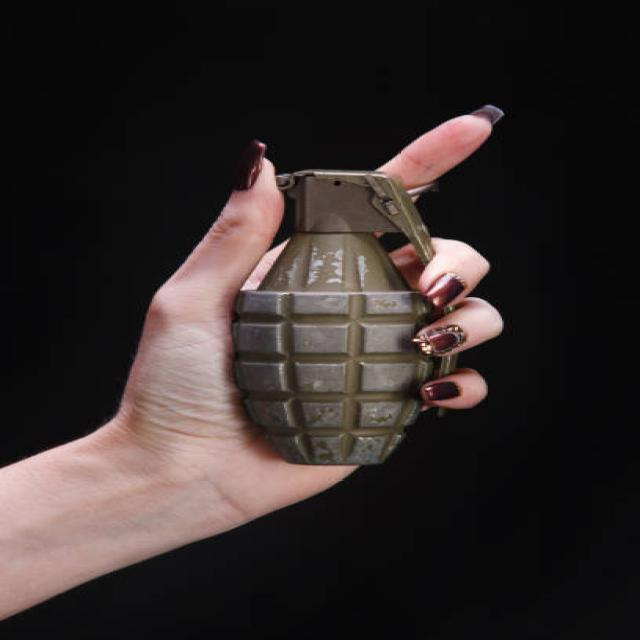grenade: (225, 167, 459, 470)
